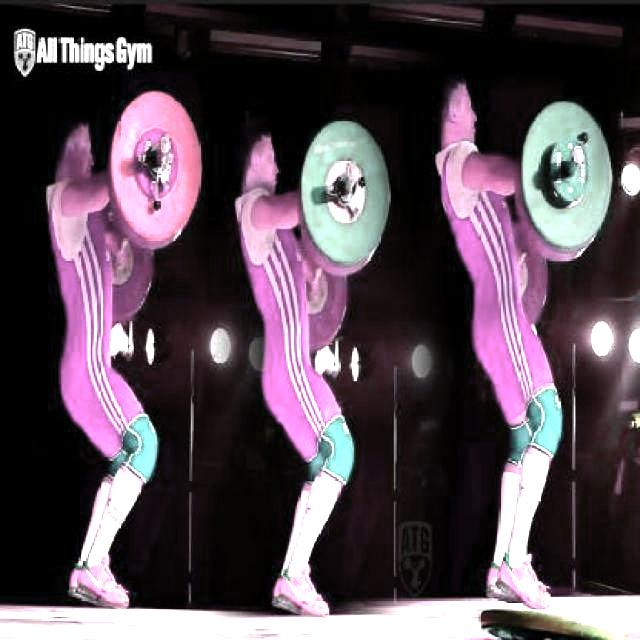barbell: (514, 91, 619, 263), (297, 111, 395, 276), (108, 85, 205, 248)
